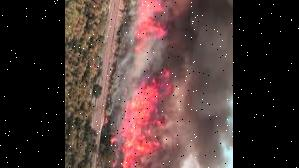fire: (111, 0, 182, 168)
